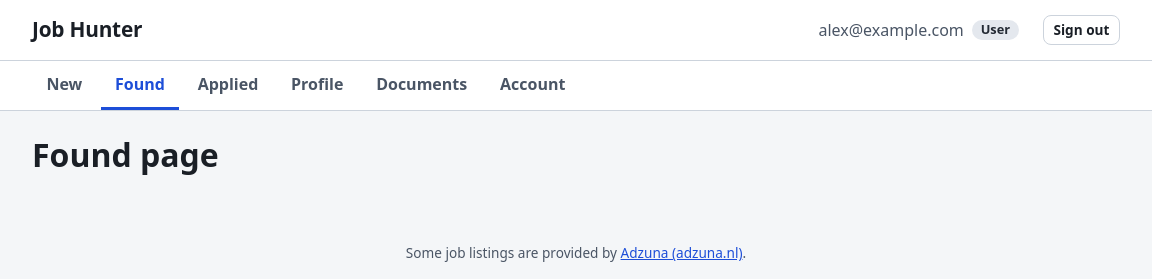
Test case: Layout › navigates with the links
Click the link "Applied".
click(228, 84)  # box left=198, top=73, right=258, bottom=95
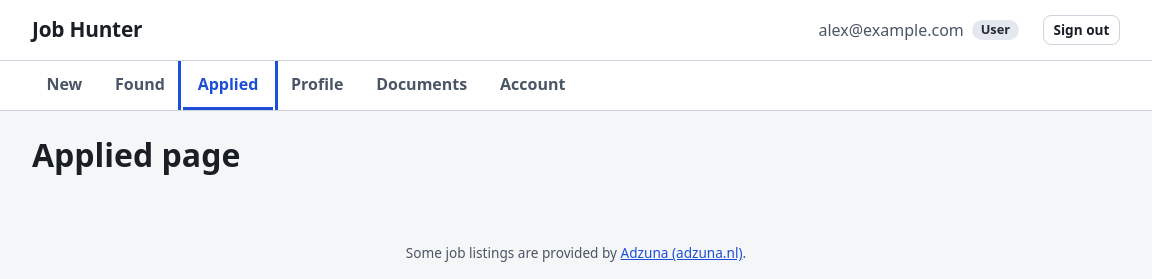
Expected: the heading "Applied page" is shown, left=32, top=133, right=240, bottom=176
